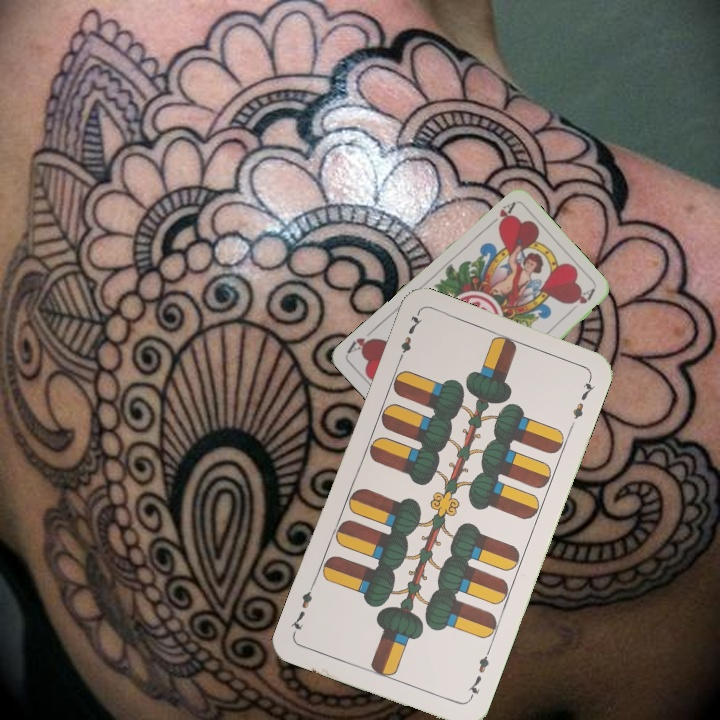E7: (393, 310, 425, 367), (464, 646, 493, 703)
HA: (484, 199, 517, 230)
